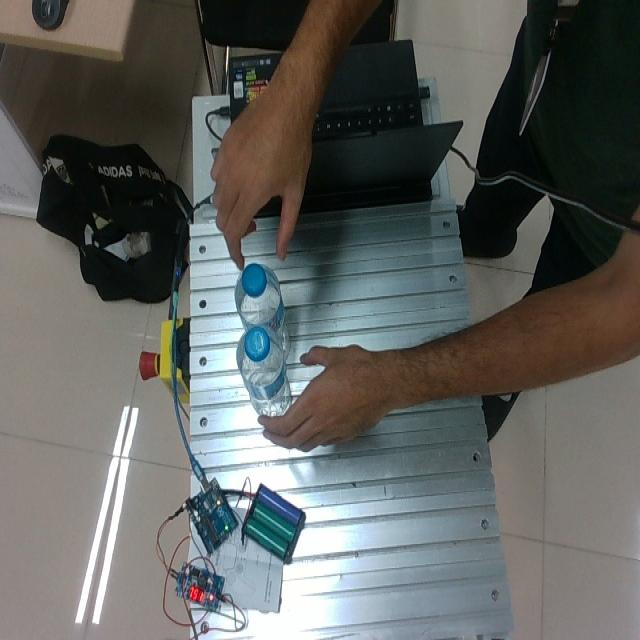lavie: (237, 321, 294, 419), (235, 262, 289, 346)
